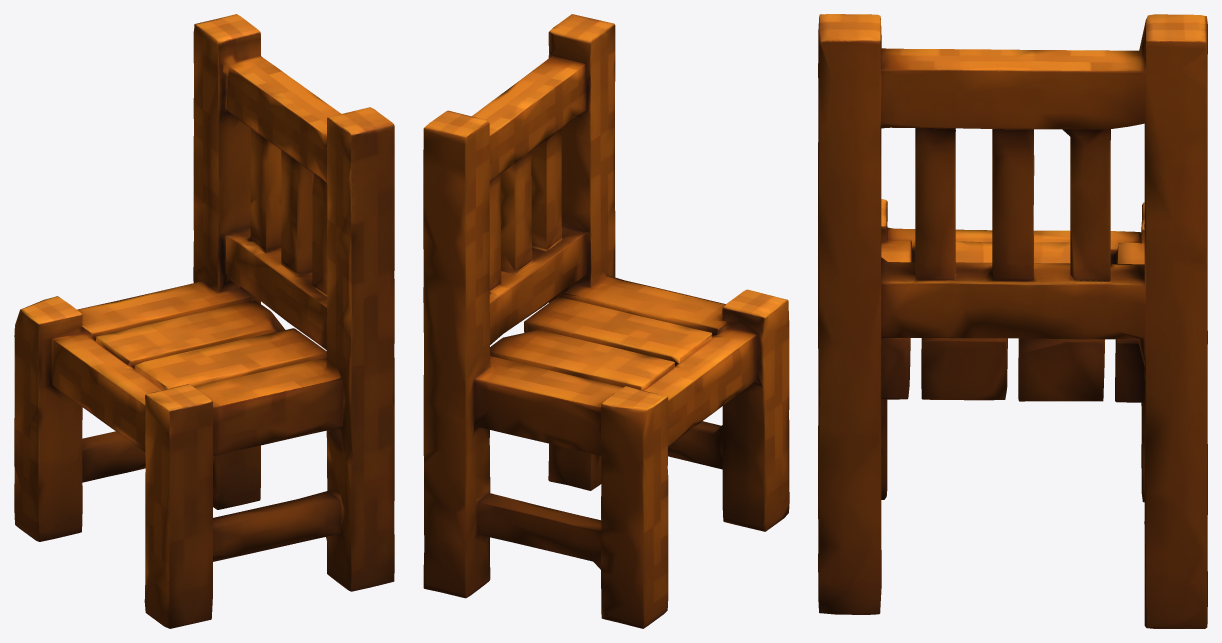
The model's file is wooden-desk-chair.glb.
3 views of the same model, side by side, from view 1: azimuth 30°, elevation 25°; view 2: azimuth 150°, elevation 25°; view 3: azimuth 270°, elevation 25° (orthographic). The views are drawn at different scales.
Parts seen in each view (by area): view 1: tripo_node_fbc8a7e9-0fa2-4bc4-add4-54b05e15e8d4; view 2: tripo_node_fbc8a7e9-0fa2-4bc4-add4-54b05e15e8d4; view 3: tripo_node_fbc8a7e9-0fa2-4bc4-add4-54b05e15e8d4.
Boxes of the visible parts, x1=… form: tripo_node_fbc8a7e9-0fa2-4bc4-add4-54b05e15e8d4: x1=14, y1=14, x2=394, y2=628; tripo_node_fbc8a7e9-0fa2-4bc4-add4-54b05e15e8d4: x1=423, y1=14, x2=789, y2=628; tripo_node_fbc8a7e9-0fa2-4bc4-add4-54b05e15e8d4: x1=818, y1=14, x2=1207, y2=628.
Size of the model in its own units: 0.4281 by 0.85 by 0.5075.
1 material, 1 textured.
